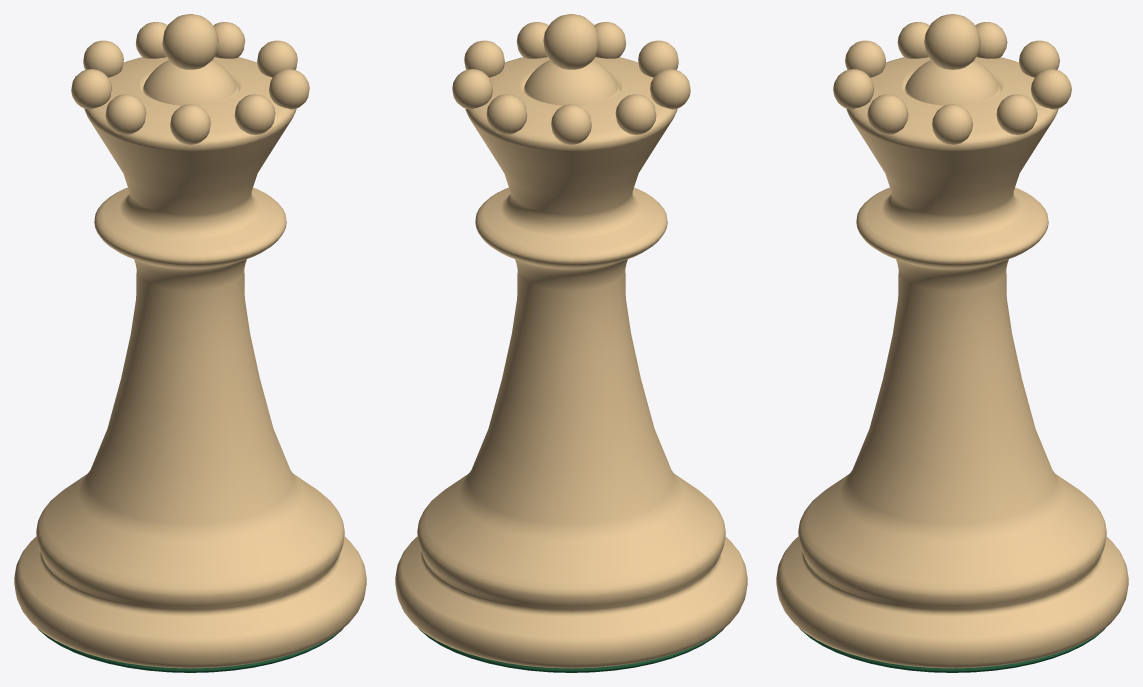
The model's file is queen.glb.
The picture shows the model from 3 angles, left to right: view 1: azimuth 30°, elevation 25°; view 2: azimuth 150°, elevation 25°; view 3: azimuth 270°, elevation 25°; orthographic projection.
Visible parts, largest first — view 1: Queen, Felt; view 2: Queen, Felt; view 3: Queen, Felt.
Part boxes in pixels (<box>): Queen: <box>14,14,366,668</box>; Felt: <box>37,628,343,672</box>; Queen: <box>395,14,747,668</box>; Felt: <box>418,628,724,672</box>; Queen: <box>776,14,1128,668</box>; Felt: <box>799,628,1105,672</box>.
Size of the model in its own units: 0.072 by 0.1323 by 0.072.
